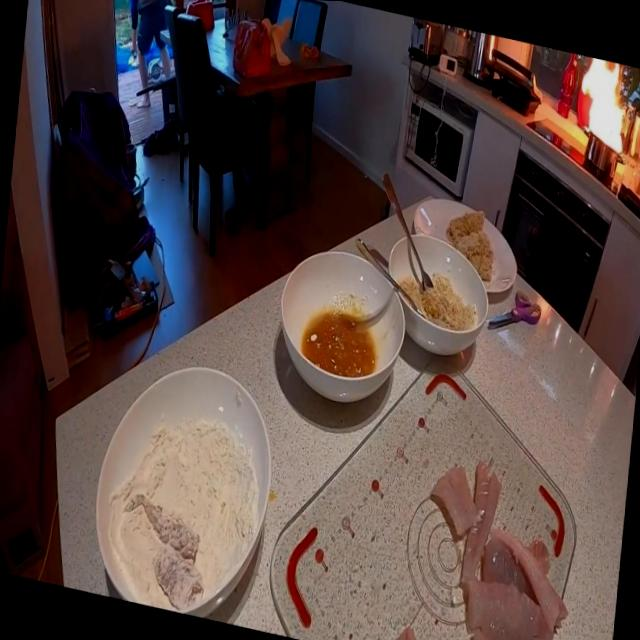fire: (552, 51, 640, 214)
